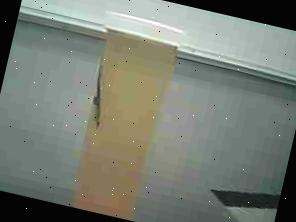Bottle A: (57, 5, 188, 222)
